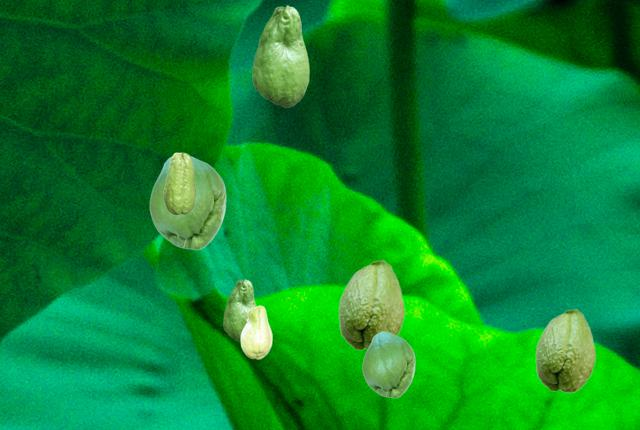sayote: (149, 155, 225, 249), (338, 259, 404, 351), (252, 5, 308, 106), (535, 308, 595, 392), (362, 331, 414, 397), (223, 279, 256, 341), (163, 152, 195, 214), (240, 305, 271, 358)
